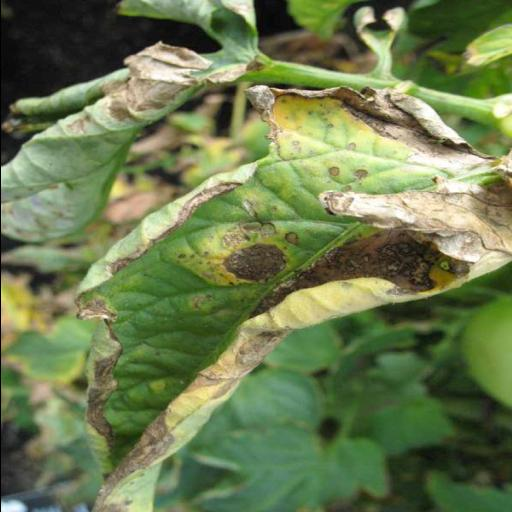disease_tomato: (72, 85, 512, 512)
